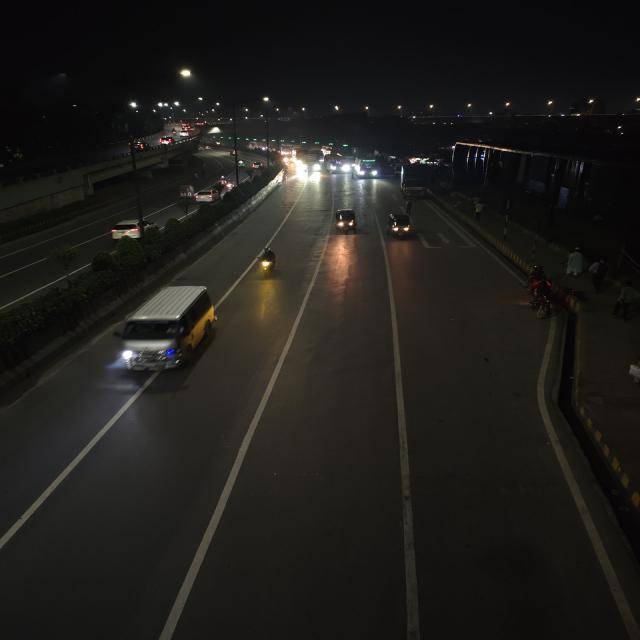bus: (299, 153, 321, 175), (355, 158, 377, 179), (325, 154, 347, 174)
car: (114, 286, 216, 372), (107, 218, 150, 240), (194, 188, 217, 202), (252, 162, 266, 170)
cng: (381, 212, 412, 237), (333, 206, 358, 233), (175, 184, 194, 198), (236, 159, 246, 169)
motorcycle: (523, 266, 554, 320), (254, 246, 280, 278), (218, 174, 226, 186), (226, 179, 233, 192)
pedestrian: (403, 200, 413, 216)
truck: (402, 166, 428, 198)
